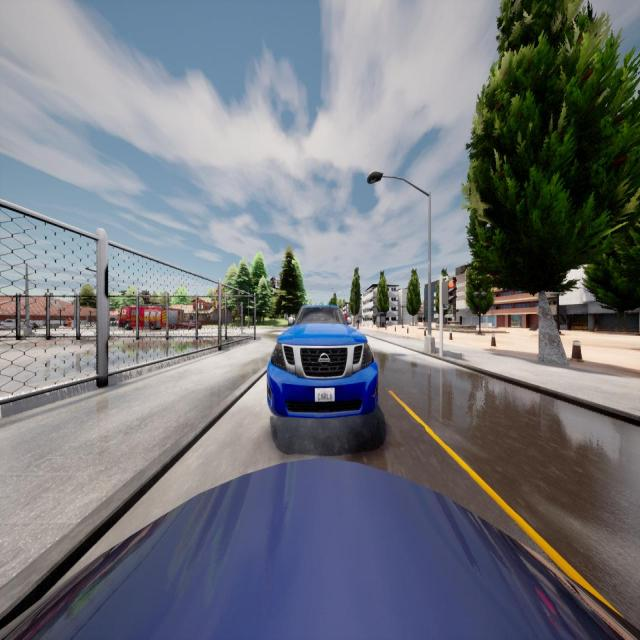Vehicle: (1, 458, 640, 639), (266, 306, 378, 418), (120, 305, 183, 330), (180, 318, 202, 331)
traffic_light: (442, 281, 456, 306)
